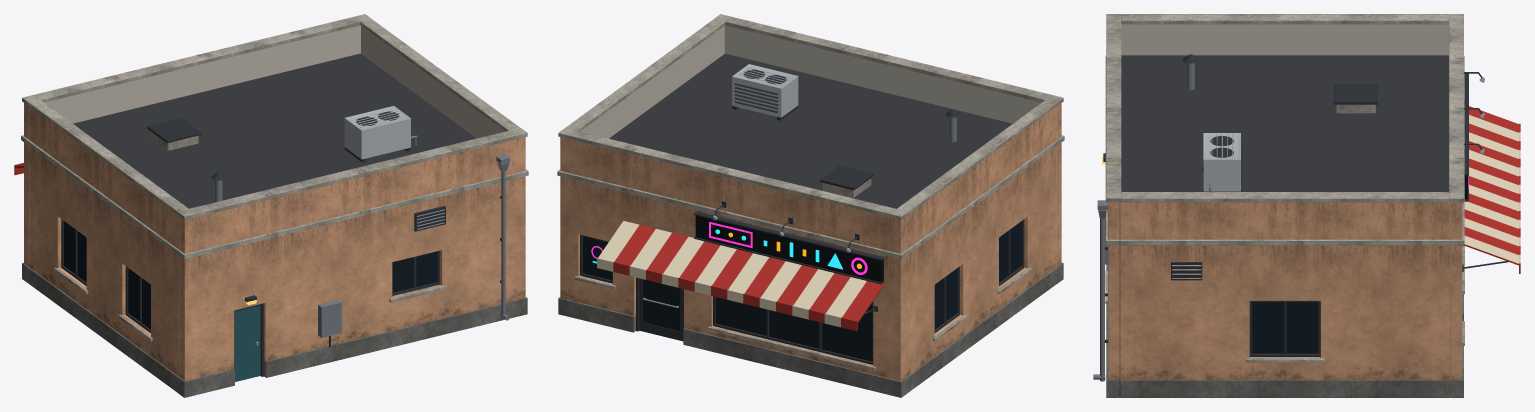
File: destructible_smallbuilding_fractured.glb
3 renders of one model, left to right at view 1: azimuth 30°, elevation 25°; view 2: azimuth 150°, elevation 25°; view 3: azimuth 270°, elevation 25°, orthographic. The views are drawn at different scales.
Visible parts, largest first — view 1: chunk_017, chunk_015, chunk_016, chunk_021, chunk_018, chunk_037, chunk_014, chunk_013, chunk_023, chunk_022, chunk_038, chunk_024 (+19 smaller); view 2: chunk_021, chunk_009, chunk_032, chunk_008, chunk_003, chunk_004, chunk_037, chunk_018, chunk_033, chunk_023, chunk_041, chunk_017 (+22 smaller); view 3: chunk_030, chunk_029, chunk_027, chunk_037, chunk_025, chunk_032, chunk_038, chunk_024, chunk_034, chunk_026, chunk_023, chunk_028 (+20 smaller).
Boxes of the visible parts, <box> form: chunk_017: <box>386,128,528,260</box>; chunk_015: <box>333,214,453,361</box>; chunk_016: <box>177,197,292,346</box>; chunk_021: <box>69,197,179,392</box>; chunk_018: <box>238,161,393,276</box>; chunk_037: <box>137,71,348,150</box>; chunk_014: <box>260,268,337,377</box>; chunk_013: <box>440,224,527,335</box>; chunk_023: <box>128,173,188,365</box>; chunk_022: <box>27,100,78,249</box>; chunk_038: <box>73,108,202,173</box>; chunk_024: <box>42,109,139,213</box>; chunk_021: <box>936,175,1057,334</box>; chunk_009: <box>734,171,842,343</box>; chunk_032: <box>779,77,955,155</box>; chunk_008: <box>579,143,707,242</box>; chunk_003: <box>683,289,793,371</box>; chunk_004: <box>558,222,639,331</box>; chunk_037: <box>665,130,835,191</box>; chunk_018: <box>848,47,1002,115</box>; chunk_033: <box>653,53,820,132</box>; chunk_023: <box>997,100,1058,255</box>; chunk_041: <box>689,241,802,312</box>; chunk_017: <box>714,14,854,83</box>; chunk_030: <box>1253,192,1450,303</box>; chunk_029: <box>1119,192,1260,318</box>; chunk_027: <box>1261,282,1423,397</box>; chunk_037: <box>1262,99,1448,191</box>; chunk_025: <box>1125,304,1275,397</box>; chunk_032: <box>1121,96,1292,176</box>; chunk_038: <box>1284,55,1448,114</box>; chunk_024: <box>1227,14,1419,55</box>; chunk_034: <box>1171,55,1332,129</box>; chunk_026: <box>1369,264,1450,397</box>; chunk_023: <box>1121,14,1228,55</box>; chunk_028: <box>1119,287,1192,397</box>.
Size of the model in its own units: 11.14 by 5.6 by 10.85.
19 materials, 4 textured.
